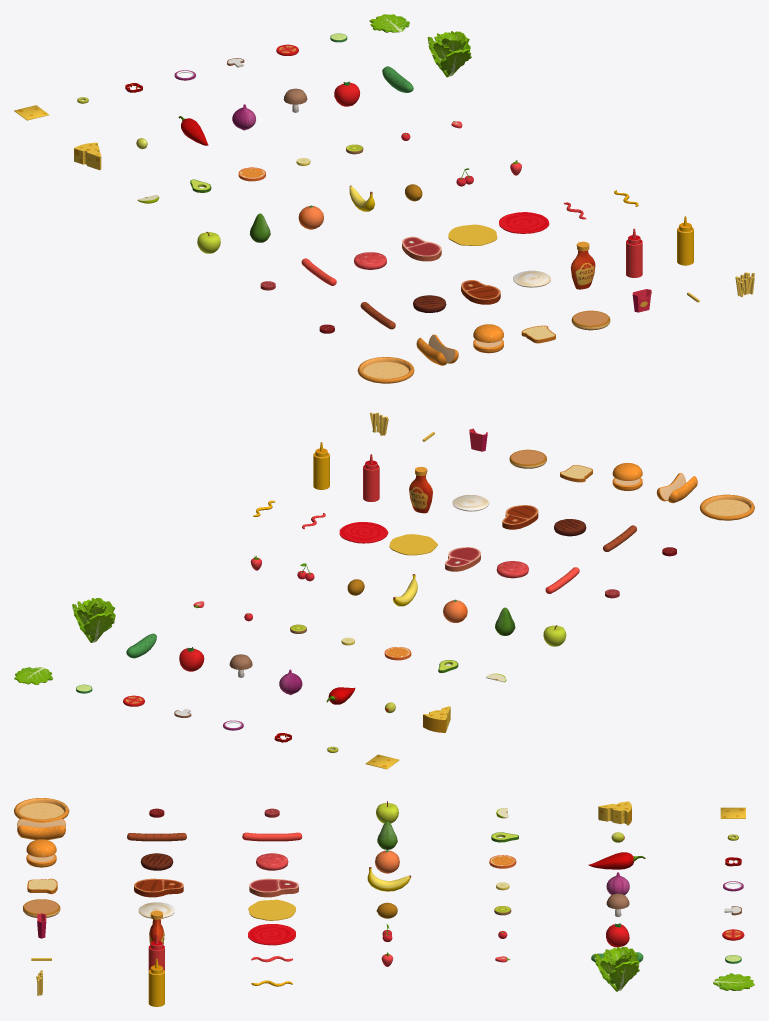
File: Foods.fbx
3 renders of one model, top to bottom at view 1: azimuth 30°, elevation 25°; view 2: azimuth 150°, elevation 25°; view 3: azimuth 270°, elevation 25°, orthographic. The views are drawn at different scales.
Visible parts, largest first — view 1: lettuce, pizza_dough_, pizza_sauce_, pizza_sauce, pizza_cheese, steak, steak_cooked, ketchup_box, mayonnaise_box, pancake_; view 2: lettuce, pizza_dough_, pizza_sauce_, pizza_cheese, pizza_sauce, steak_cooked, steak, mayonnaise_box, ketchup_box, pancake_; view 3: lettuce, pizza_dough_, pizza_sauce_, pizza_cheese, steak, steak_cooked, mayonnaise_box, cheese, hotdog_1, red pepper, pancake_, lettuce_slice (+15 smaller).
Part boxes in pixels (x1,y1,x2,y2): lettuce: [427, 31, 471, 77]; pizza_dough_: [357, 357, 414, 383]; pizza_sauce_: [499, 212, 549, 233]; pizza_sauce: [571, 241, 595, 289]; pizza_cheese: [448, 224, 497, 245]; steak: [402, 236, 441, 261]; steak_cooked: [461, 280, 500, 304]; ketchup_box: [626, 228, 642, 277]; mayonnaise_box: [677, 216, 693, 265]; pancake_: [571, 310, 610, 330]; lettuce: [72, 598, 115, 642]; pizza_dough_: [699, 494, 754, 520]; pizza_sauce_: [339, 522, 388, 543]; pizza_cheese: [389, 534, 437, 555]; pizza_sauce: [409, 466, 432, 513]; steak_cooked: [502, 505, 538, 529]; steak: [445, 547, 480, 571]; mayonnaise_box: [313, 442, 329, 489]; ketchup_box: [363, 454, 379, 501]; pancake_: [509, 449, 546, 468]; lettuce: [594, 947, 639, 991]; pizza_dough_: [14, 798, 69, 822]; pizza_sauce_: [248, 924, 295, 945]; pizza_cheese: [248, 899, 295, 920]; steak: [249, 878, 298, 897]; steak_cooked: [134, 878, 183, 897]; mayonnaise_box: [148, 958, 164, 1006]; cheese: [598, 801, 631, 825]; hotdog_1: [17, 825, 65, 839]; red pepper: [588, 852, 645, 869]; pancake_: [23, 899, 60, 917]; lettuce_slice: [713, 973, 754, 990].
Bounding box in the file's own units: 7.86 × 1.02 × 12.85.
